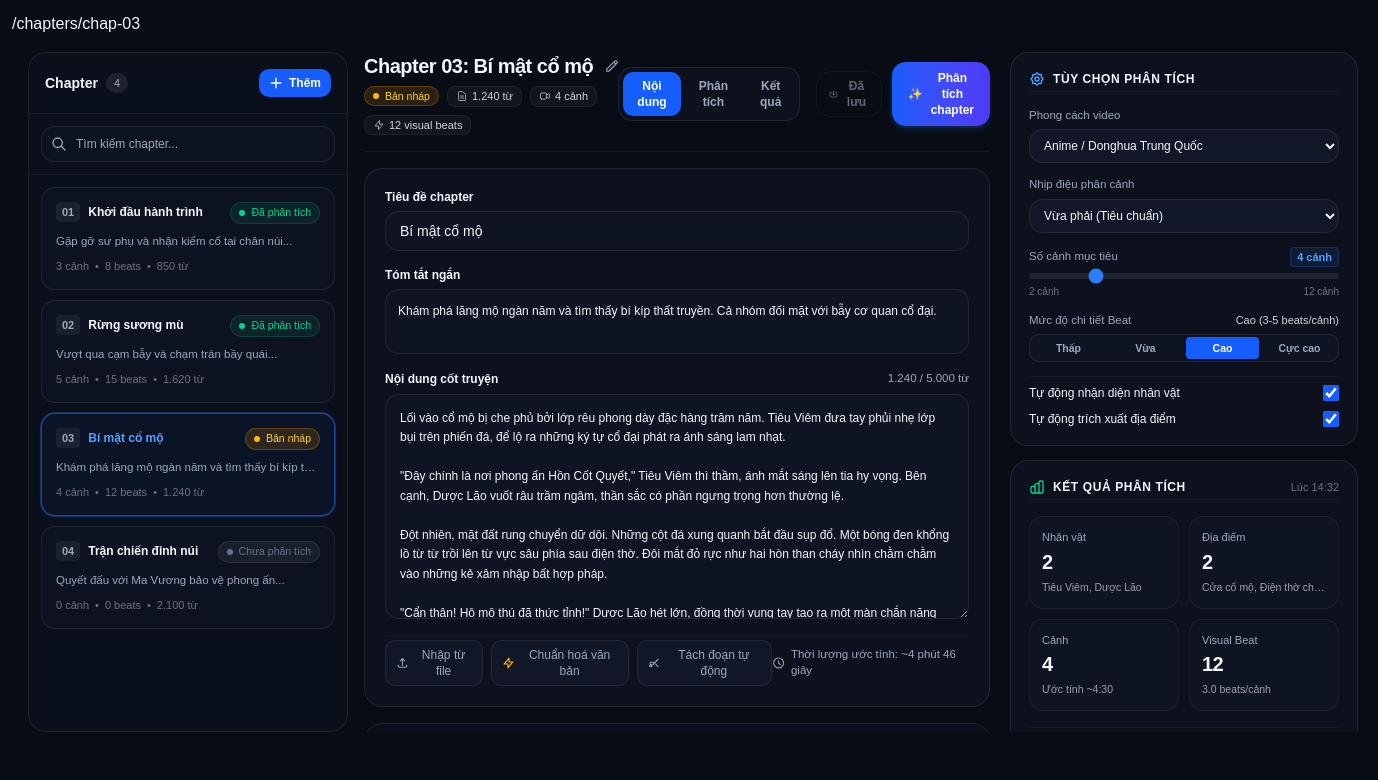
ChapterPage › updates word count dynamically when editing story text
Replace the text in the text box with placeholder "Nhập hoặc dán toàn bộ nội dung cốt truyện của chapter vào đây..." below "Nội dung cốt truyện" with "Một hai ba bốn năm sáu bảy tám chín mười.": (677, 506) [385, 394, 969, 619]
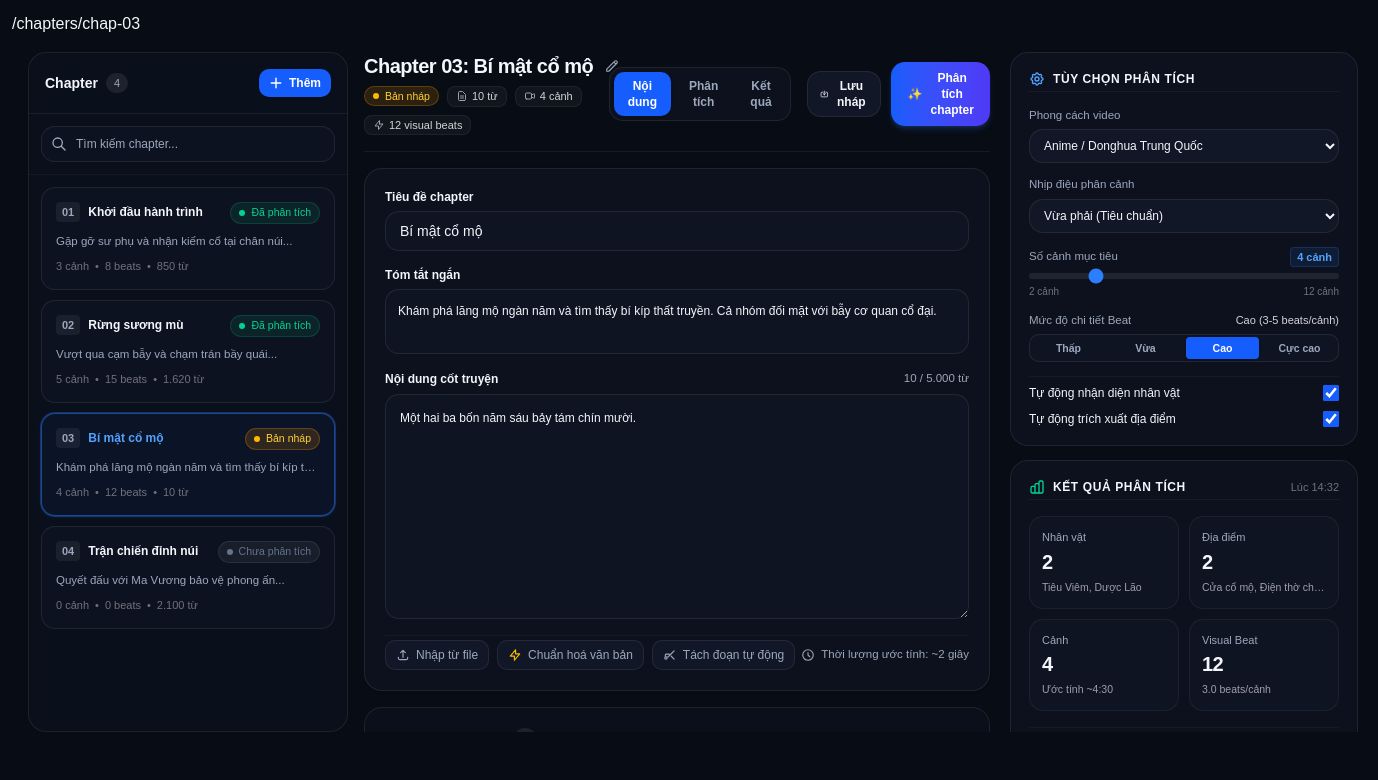
Now the text "10 / 5.000 từ" is shown, box [904, 370, 969, 388]
